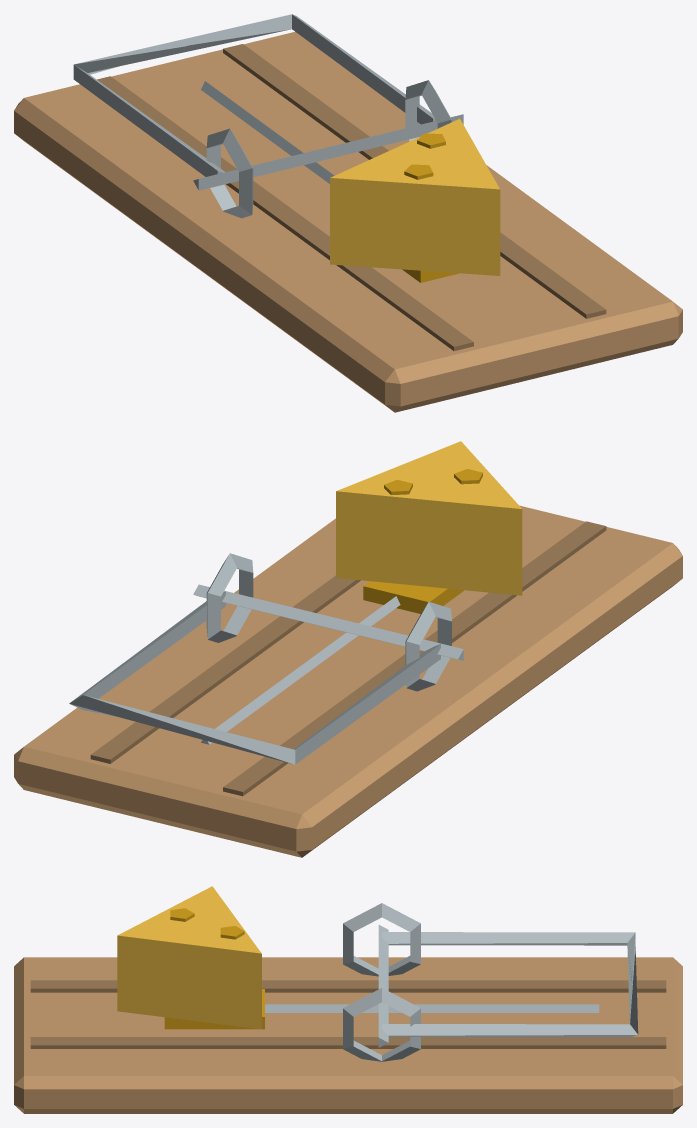
Rendered from mausefalle.glb.
3 views of the same model, one above another, from view 1: azimuth 30°, elevation 25°; view 2: azimuth 150°, elevation 25°; view 3: azimuth 270°, elevation 25° (orthographic). The views are drawn at different scales.
Visible parts, largest first — view 1: mausefalle-m, buegel-m; view 2: mausefalle-m, buegel-m; view 3: mausefalle-m, buegel-m.
Boxes of the visible parts, x1,y1,x2,y2 form: mausefalle-m: (14,31,682,412); buegel-m: (73,14,435,176); mausefalle-m: (14,441,682,857); buegel-m: (69,591,440,764); mausefalle-m: (14,886,682,1113); buegel-m: (382,932,638,1037).
Size of the model in its own units: 0.18 by 0.086 by 0.4.
